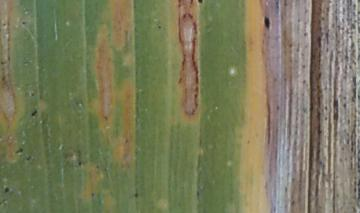tarspot: (331, 95, 340, 108), (263, 15, 270, 29), (13, 147, 24, 155), (331, 109, 339, 120), (75, 158, 83, 167), (3, 184, 10, 194), (88, 190, 96, 198), (19, 19, 27, 26), (30, 109, 38, 116), (29, 89, 36, 97), (93, 162, 100, 169), (102, 114, 109, 121), (273, 103, 280, 110), (133, 190, 139, 198), (1, 73, 7, 81), (155, 23, 162, 29), (26, 154, 31, 161), (125, 137, 129, 145), (1, 59, 6, 65), (1, 22, 7, 27), (196, 1, 203, 4)
